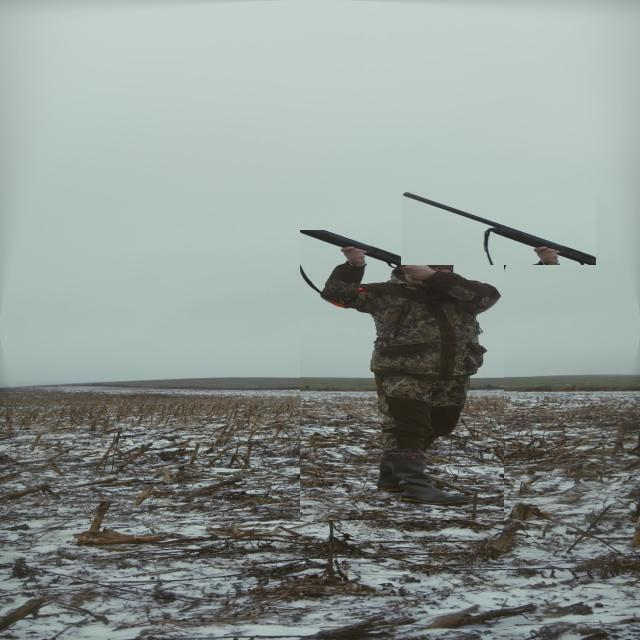poacher: (300, 230, 504, 520)
weapon: (401, 191, 596, 265)
